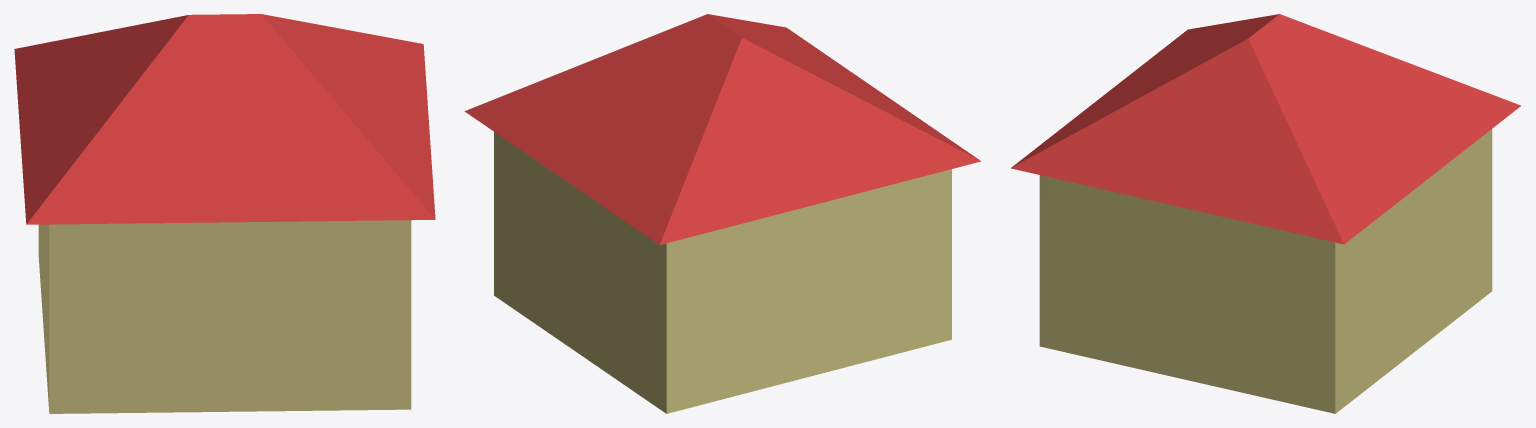
The picture shows the model from 3 angles, left to right: view 1: azimuth 30°, elevation 25°; view 2: azimuth 150°, elevation 25°; view 3: azimuth 270°, elevation 25°; orthographic projection. The views are drawn at different scales.
Parts seen in each view (by area): view 1: group_3, group_5, group_4; view 2: group_5, group_3, group_4; view 3: group_5, group_3, group_4.
Part boxes in pixels (<box>): group_3: <box>16,14,435,224</box>; group_5: <box>38,220,411,413</box>; group_4: <box>14,40,435,224</box>; group_5: <box>494,132,951,413</box>; group_3: <box>464,14,978,244</box>; group_4: <box>659,25,980,244</box>; group_5: <box>1039,129,1492,413</box>; group_3: <box>1011,14,1520,244</box>; group_4: <box>1011,27,1516,244</box>.
Size of the model in its own units: 23.53 by 23.65 by 14.91.
